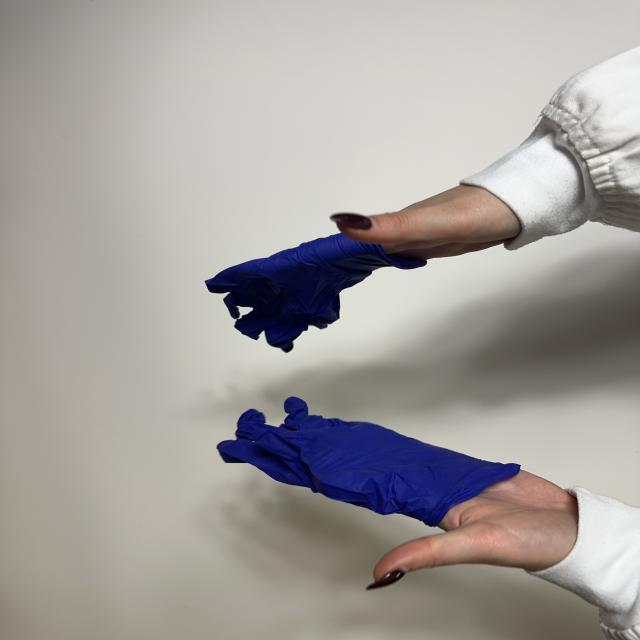glove_partial: (218, 397, 578, 588), (205, 186, 520, 352)
